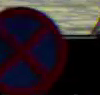No Stopping: (1, 3, 66, 93)
